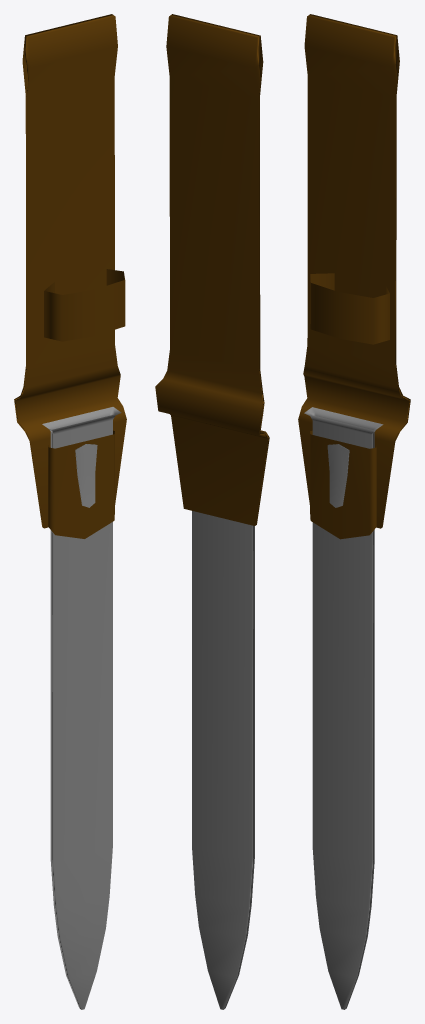
File: scabbard_knife_K98.fbx
3 views of the same model, side by side, from view 1: azimuth 30°, elevation 25°; view 2: azimuth 150°, elevation 25°; view 3: azimuth 330°, elevation 25° (orthographic).
Parts seen in each view (by area): view 1: acabbard_knife_k98; view 2: acabbard_knife_k98; view 3: acabbard_knife_k98.
Boxes of the visible parts, bbox=[...] form: acabbard_knife_k98: bbox=[14, 14, 126, 1009]; acabbard_knife_k98: bbox=[155, 14, 269, 1009]; acabbard_knife_k98: bbox=[298, 14, 410, 1009].
Bounding box in the file's own units: 4.71 × 41.87 × 1.89.
